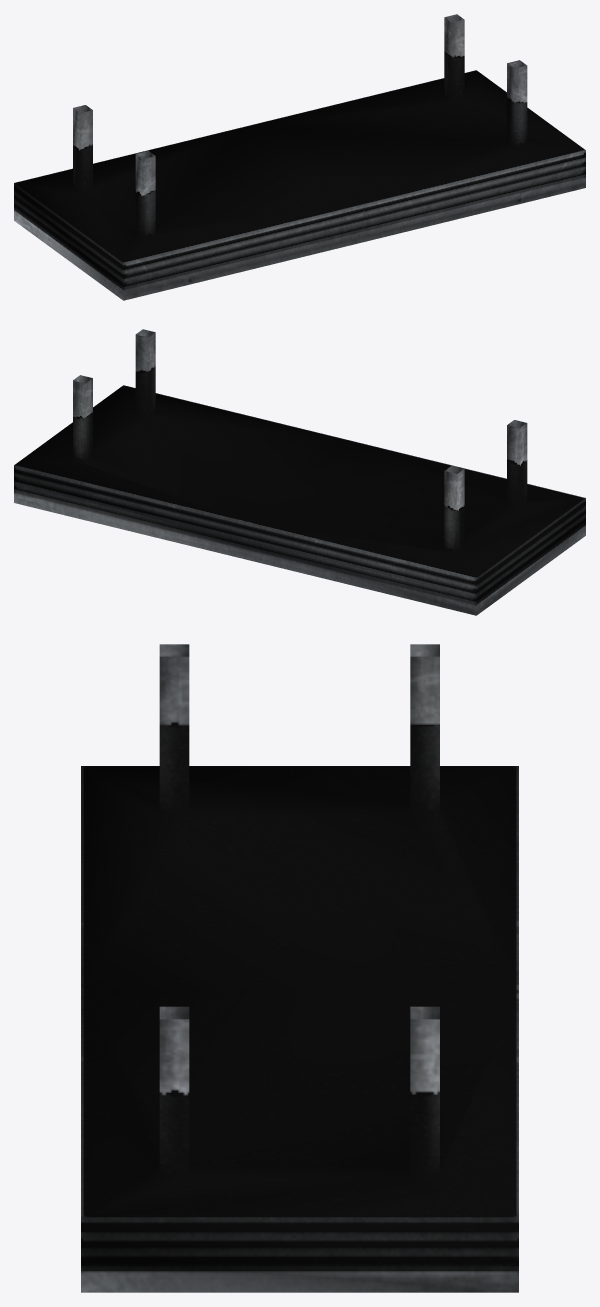
The model's file is Light1.fbx.
3 renders of one model, top to bottom at view 1: azimuth 30°, elevation 25°; view 2: azimuth 150°, elevation 25°; view 3: azimuth 270°, elevation 25°, orthographic. The views are drawn at different scales.
Parts seen in each view (by area): view 1: Light1; view 2: Light1; view 3: Light1.
Part boxes in pixels (x1,y1,x2,y2): Light1: [14, 14, 585, 300]; Light1: [14, 329, 585, 615]; Light1: [81, 644, 518, 1292].
Bounding box in the file's own units: 0.8386 × 0.2037 × 0.3439.
